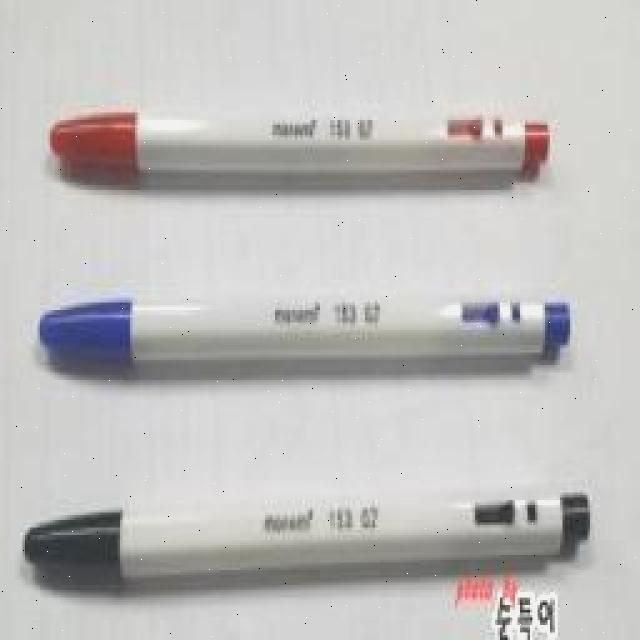pen: (22, 485, 595, 590)
